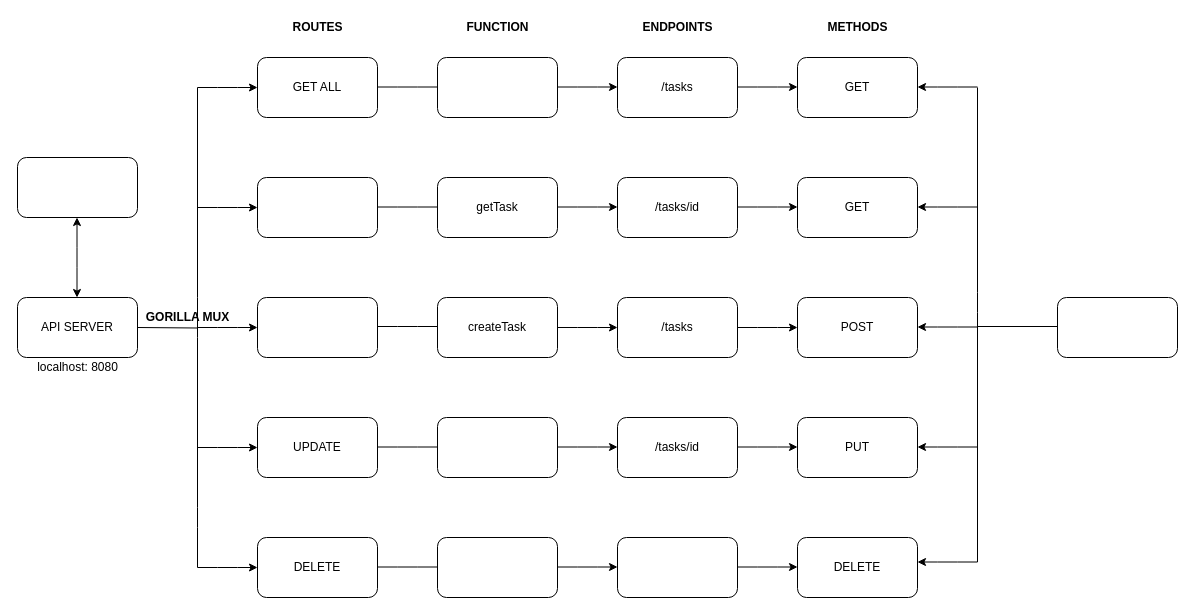
Some shapes in this 1195 by 615 pixel diagram are drawn without their labels. The shapes that lost their labels are listed below. From the top down, each one's centre as x and y in pixels, then its label:
At (x=497, y=87): "getTasks".
At (x=77, y=187): "POSTGRES - DB".
At (x=317, y=207): "GET BY ID".
At (x=317, y=327): "CREATE".
At (x=1117, y=327): "Postman".
At (x=497, y=447): "udpateTask".
At (x=497, y=567): "deleteTask".
At (x=677, y=567): "tasks/id".
